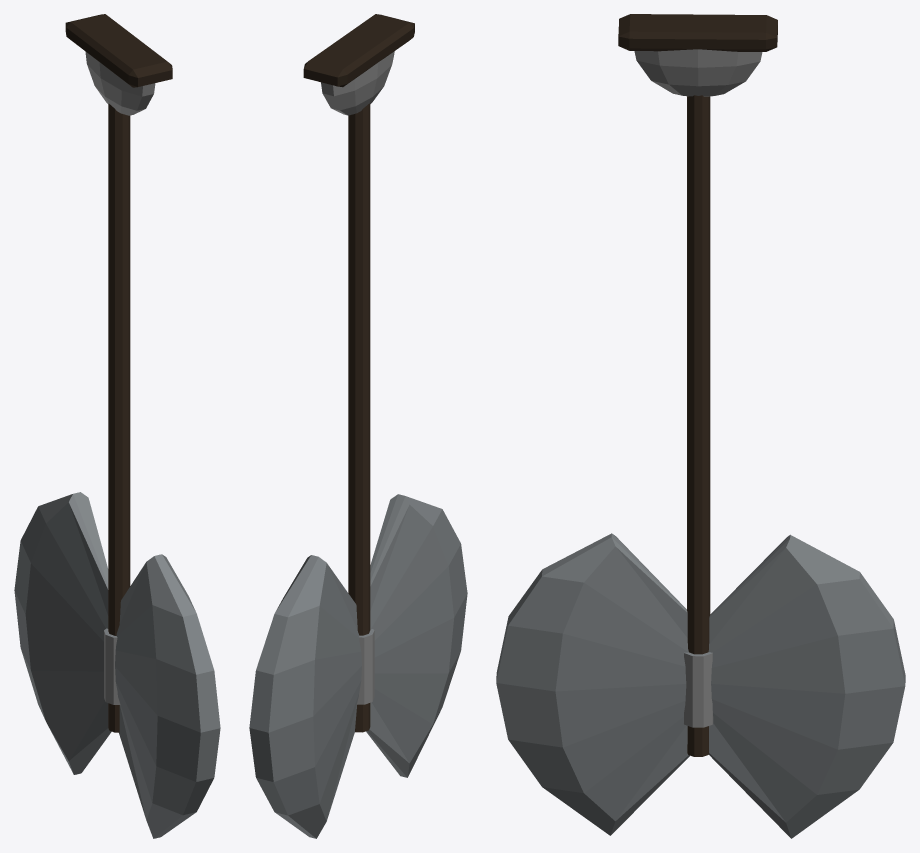
Rendered from axe2.fbx.
The picture shows the model from 3 angles, left to right: view 1: azimuth 30°, elevation 25°; view 2: azimuth 150°, elevation 25°; view 3: azimuth 270°, elevation 25°; orthographic projection. The views are drawn at different scales.
Visible parts, largest first — view 1: axe2; view 2: axe2; view 3: axe2.
Boxes of the visible parts, left/top/right/bottom form: axe2: left=14, top=14, right=220, bottom=838; axe2: left=249, top=14, right=467, bottom=838; axe2: left=496, top=14, right=905, bottom=838.
Bounding box in the file's own units: 0.1707 × 2.25 × 1.03.
